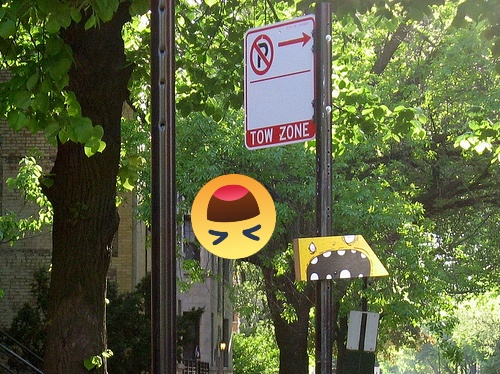haha: (191, 174, 276, 259)
